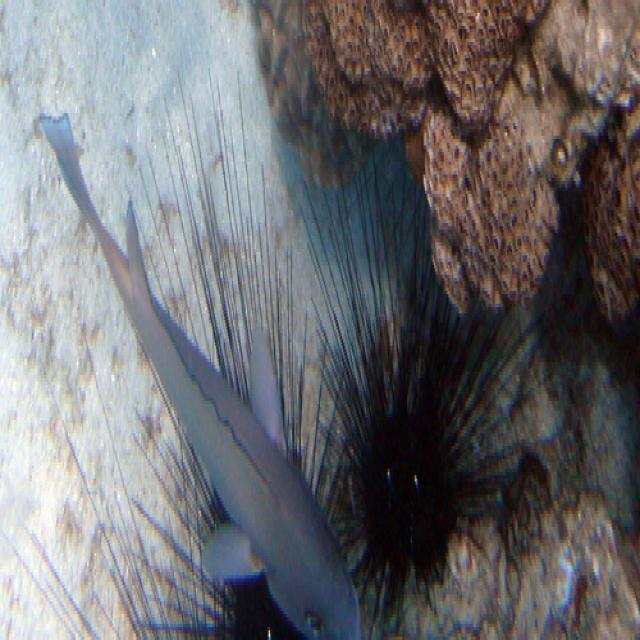Urchin: (300, 142, 526, 608)
